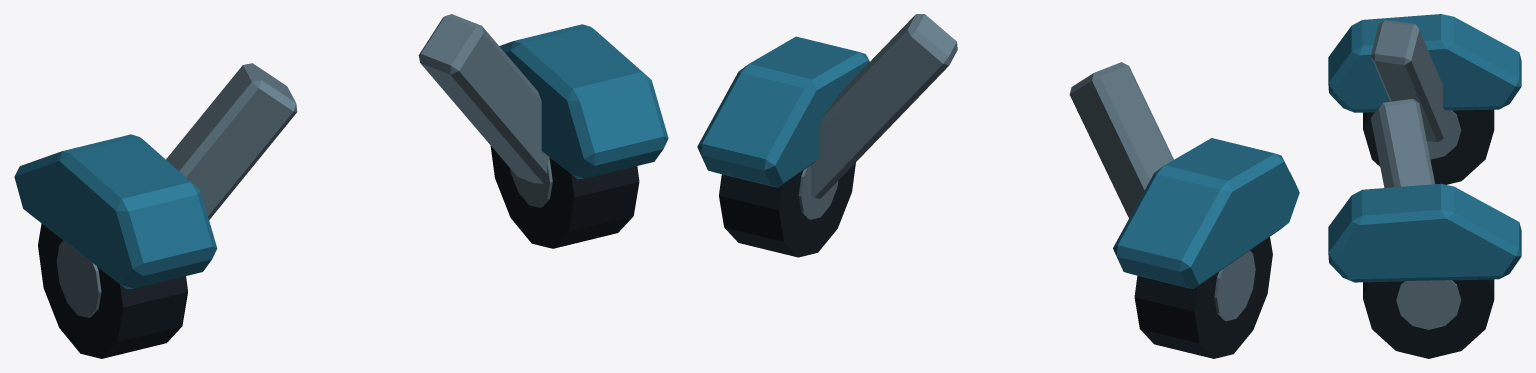
Rendered from EA_LandingGear.fbx.
The picture shows the model from 3 angles, left to right: view 1: azimuth 30°, elevation 25°; view 2: azimuth 150°, elevation 25°; view 3: azimuth 270°, elevation 25°; orthographic projection. The views are drawn at different scales.
Visible parts, largest first — view 1: EA_LandingGear; view 2: EA_LandingGear; view 3: EA_LandingGear.
Part boxes in pixels (<box>): EA_LandingGear: <box>14,14,668,358</box>; EA_LandingGear: <box>697,14,1299,358</box>; EA_LandingGear: <box>1328,14,1521,358</box>.
Bounding box in the file's own units: 1.24 × 0.5692 × 0.5005.
